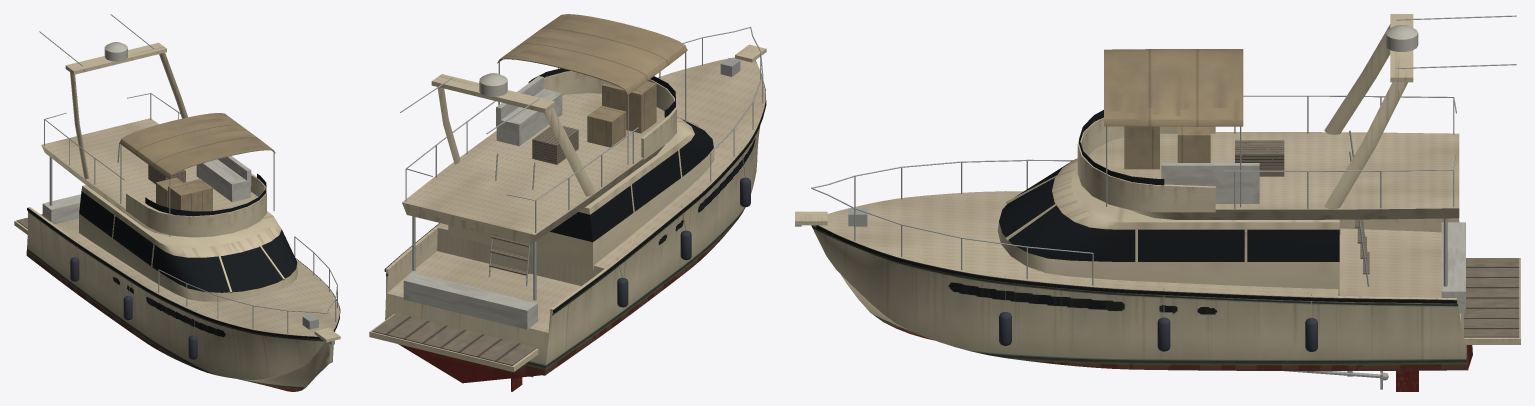
Rendered from motorYacht-b-lod0.glb.
3 views of the same model, side by side, from view 1: azimuth 30°, elevation 25°; view 2: azimuth 150°, elevation 25°; view 3: azimuth 270°, elevation 25° (orthographic). The views are drawn at different scales.
Parts seen in each view (by area): view 1: Superstructure, Hull, Gear; view 2: Superstructure, Hull, Gear; view 3: Hull, Superstructure, Gear.
Boxes of the visible parts, bbox=[...] form: Superstructure: bbox=[39, 14, 297, 301]; Hull: bbox=[14, 207, 340, 391]; Gear: bbox=[42, 93, 337, 359]; Superstructure: bbox=[400, 14, 714, 269]; Hull: bbox=[369, 44, 766, 391]; Gear: bbox=[403, 26, 763, 329]; Hull: bbox=[795, 191, 1520, 391]; Superstructure: bbox=[997, 14, 1516, 293]; Gear: bbox=[811, 95, 1465, 351].
Bounding box in the file's own units: 4.59 × 7.07 × 13.28.
1 material, 1 textured.
